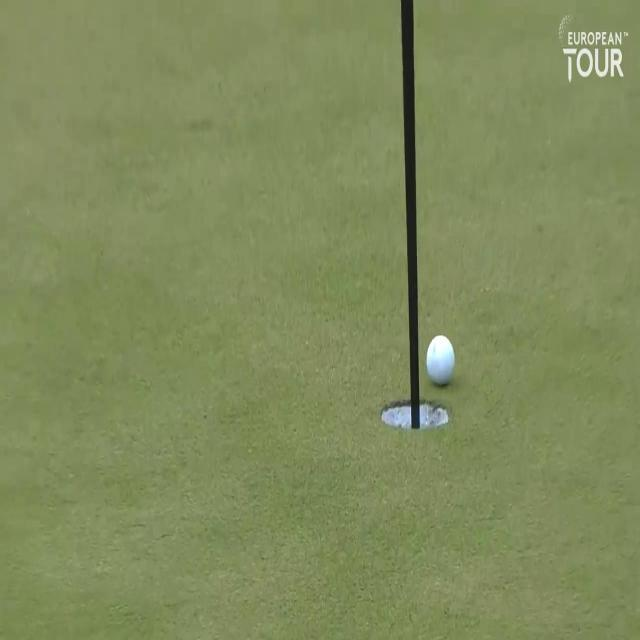GolfBall: (420, 316, 466, 394)
